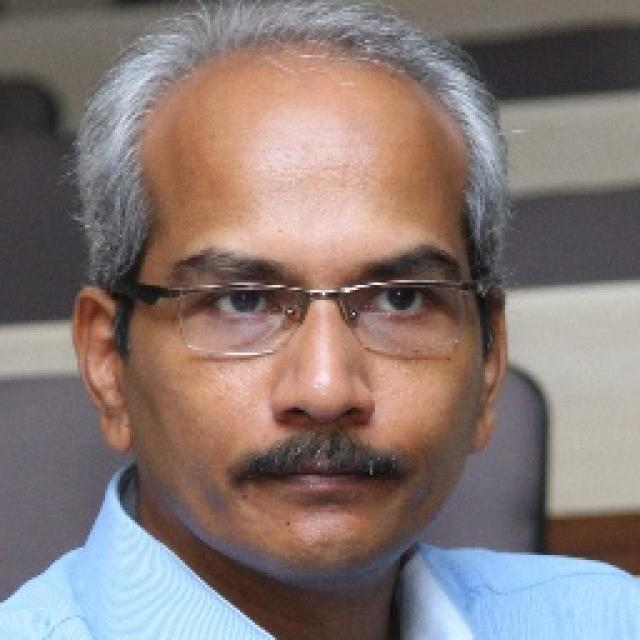earlobe: (103, 398, 137, 457), (465, 397, 494, 454)
eye: (364, 283, 442, 318), (207, 285, 280, 319)
nose: (268, 400, 381, 457)
wholeear: (72, 286, 138, 455), (465, 284, 507, 454)
